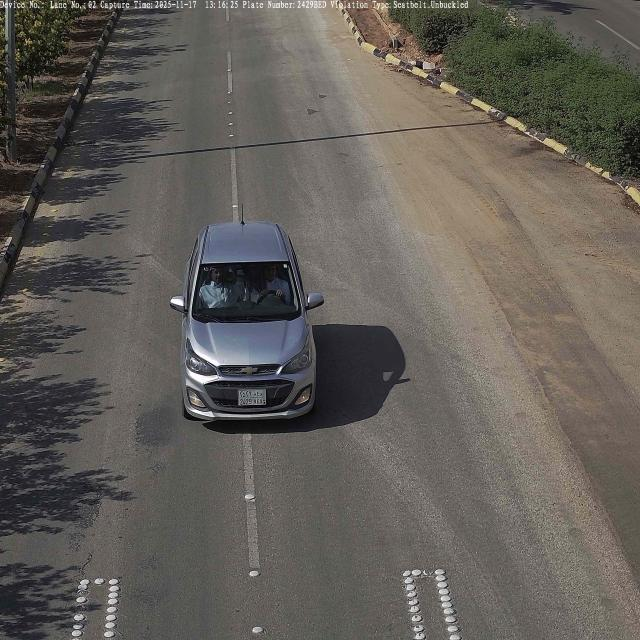person_without_seatbelt: (251, 264, 287, 303)
